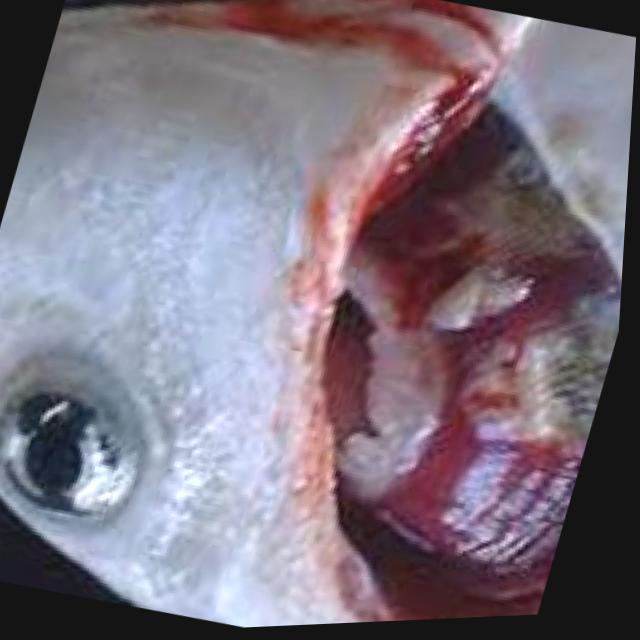Gill Disease: (125, 0, 630, 634)
